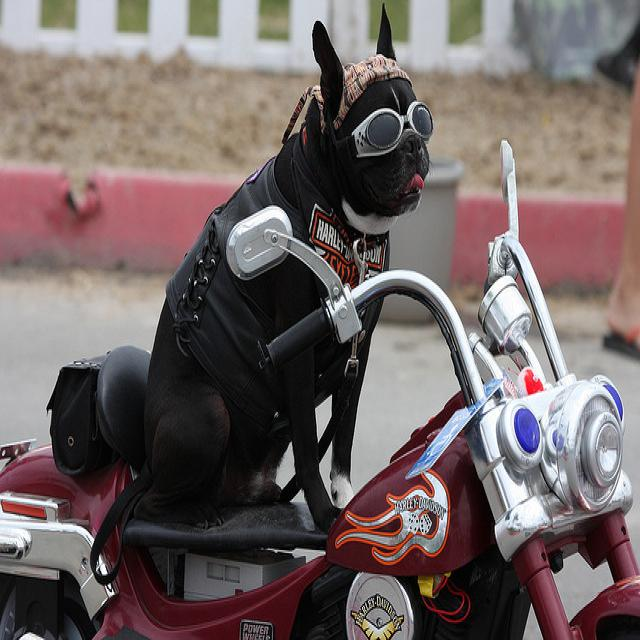motor: (0, 143, 640, 631)
